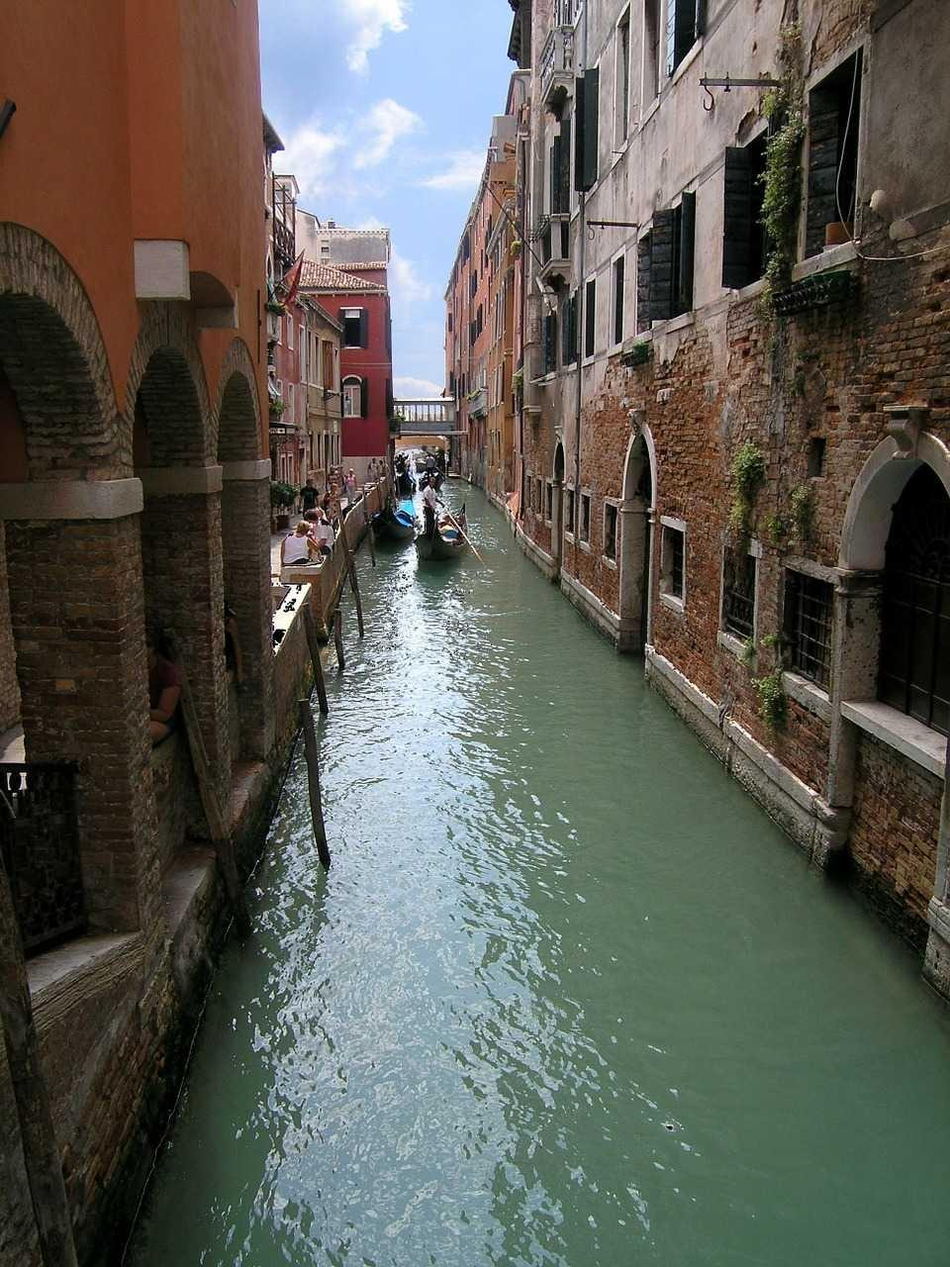kayak: (415, 508, 469, 560), (372, 502, 416, 541)
